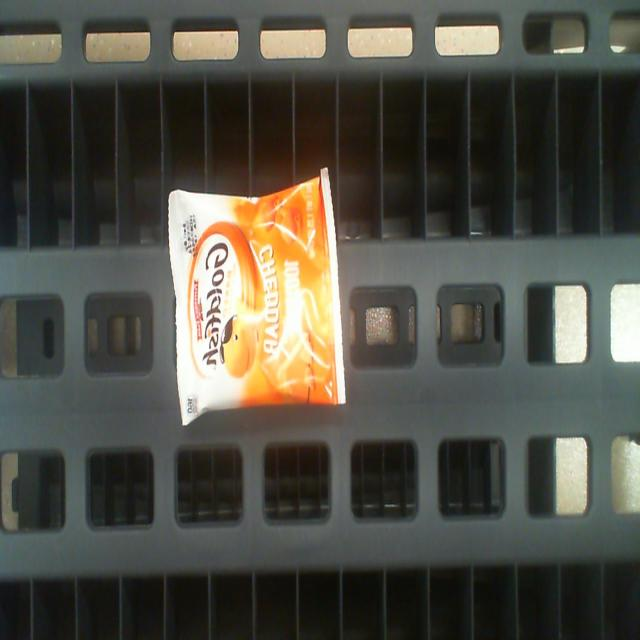snack: (167, 167, 339, 427), (170, 170, 330, 420)
